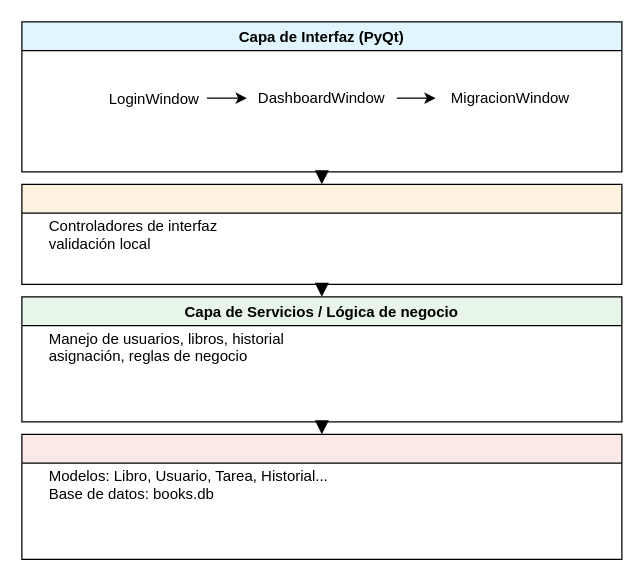
Some shapes in this 644 by 581 pixel diagram are drawn without their labels. Here are the shapes that lost their labels. From the top down, the box of each, then its label:
(21, 183, 622, 284): Capa de Controladores
(21, 433, 622, 559): Capa de Persistencia (SQLite + SQLAlchemy)
